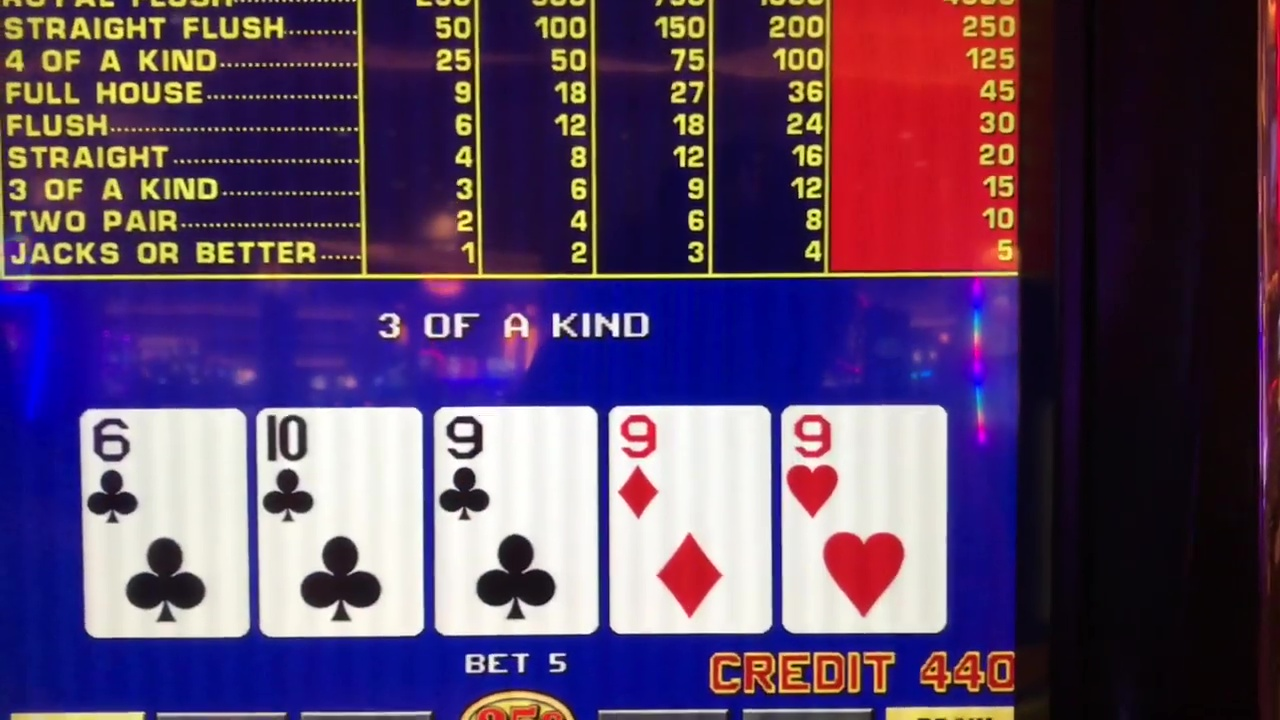C6: (91, 409, 245, 635)
C9: (436, 408, 592, 632)
CT: (265, 408, 416, 637)
D9: (608, 407, 772, 632)
H9: (784, 404, 942, 632)
